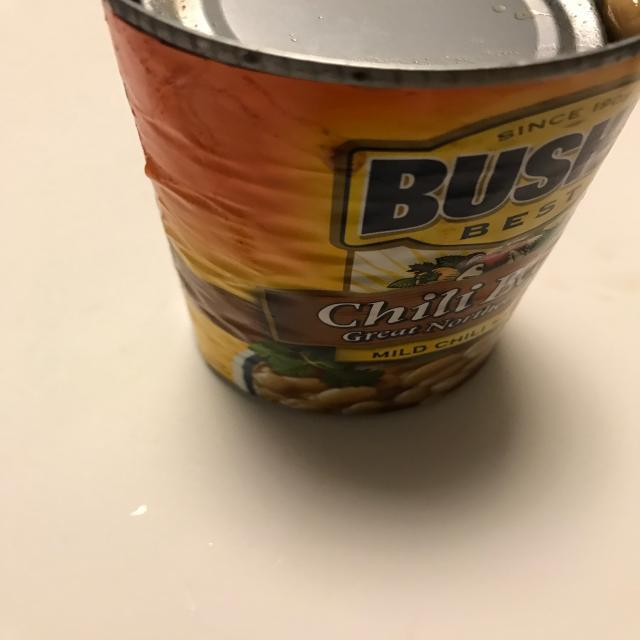metal: (100, 0, 640, 422)
